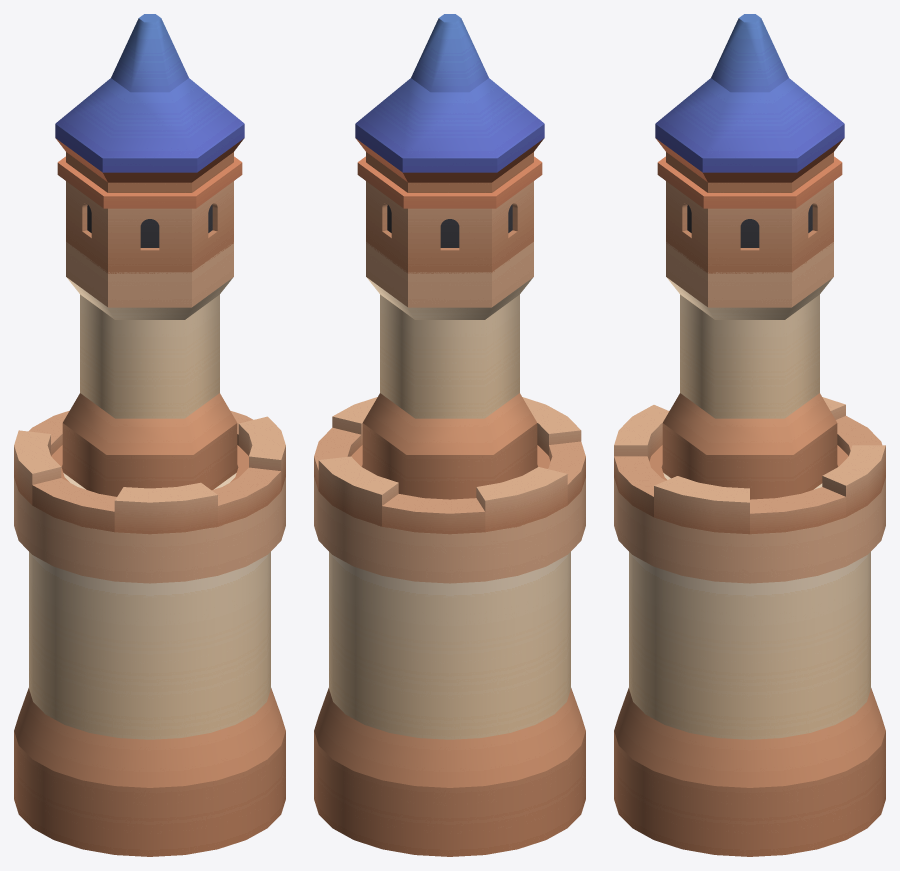
File: tower_thing.glb
3 renders of one model, left to right at view 1: azimuth 30°, elevation 25°; view 2: azimuth 150°, elevation 25°; view 3: azimuth 270°, elevation 25°, orthographic.
Parts seen in each view (by area): view 1: tower-base, tower-hexagon-roof, tower-top; view 2: tower-base, tower-hexagon-roof, tower-top; view 3: tower-base, tower-hexagon-roof, tower-top.
Boxes of the visible parts, left/top/right/bottom form: tower-base: left=14, top=473, right=285, bottom=856; tower-hexagon-roof: left=55, top=14, right=244, bottom=496; tower-top: left=14, top=410, right=285, bottom=534; tower-base: left=314, top=477, right=585, bottom=856; tower-hexagon-roof: left=355, top=14, right=544, bottom=499; tower-top: left=314, top=397, right=585, bottom=534; tower-base: left=614, top=473, right=885, bottom=856; tower-hexagon-roof: left=655, top=14, right=844, bottom=499; tower-top: left=614, top=397, right=885, bottom=534.
Bounding box in the file's own units: 1.4 × 4.44 × 1.4.
Materials: 5 (5 with a texture image).
